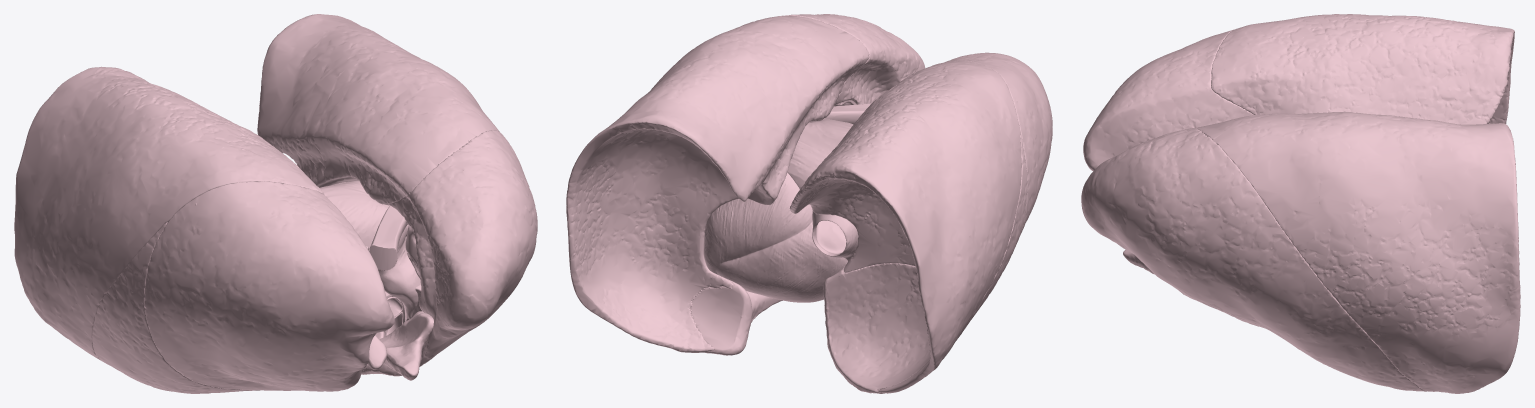
File: thorax-organes.glb
3 renders of one model, left to right at view 1: azimuth 30°, elevation 25°; view 2: azimuth 150°, elevation 25°; view 3: azimuth 270°, elevation 25°, orthographic. The views are drawn at different scales.
Visible parts, largest first — view 1: lobe_superieur_du_poumon_droit, lobe_inferieur_du_poumon_droit, lobe_inferieur_du_poumon_gauche, lobe_superieur_du_poumon_gauche, lobe_moyen_du_poumon_droit, paroi_du_c_ur, lobe_du_thymus_gauche, bronche, lobe_du_thymus_droit; view 2: lobe_inferieur_du_poumon_gauche, lobe_inferieur_du_poumon_droit, paroi_du_c_ur, lobe_moyen_du_poumon_droit, lobe_superieur_du_poumon_gauche, lobe_superieur_du_poumon_droit, bronche; view 3: lobe_inferieur_du_poumon_gauche, lobe_superieur_du_poumon_gauche, lobe_inferieur_du_poumon_droit, lobe_superieur_du_poumon_droit.
Boxes of the visible parts, left/top/right/bottom form: lobe_superieur_du_poumon_droit: left=144, top=181, right=394, bottom=391; lobe_inferieur_du_poumon_droit: left=14, top=66, right=323, bottom=361; lobe_inferieur_du_poumon_gauche: left=257, top=14, right=499, bottom=204; lobe_superieur_du_poumon_gauche: left=361, top=130, right=537, bottom=376; lobe_moyen_du_poumon_droit: left=92, top=222, right=259, bottom=393; paroi_du_c_ur: left=319, top=180, right=420, bottom=322; lobe_du_thymus_gauche: left=379, top=284, right=433, bottom=380; bronche: left=195, top=182, right=407, bottom=270; lobe_du_thymus_droit: left=366, top=331, right=386, bottom=369; lobe_inferieur_du_poumon_gauche: left=566, top=16, right=869, bottom=352; lobe_inferieur_du_poumon_droit: left=789, top=60, right=1021, bottom=393; paroi_du_c_ur: left=704, top=119, right=858, bottom=302; lobe_moyen_du_poumon_droit: left=823, top=135, right=1027, bottom=393; lobe_superieur_du_poumon_gauche: left=690, top=14, right=925, bottom=355; lobe_superieur_du_poumon_droit: left=944, top=52, right=1052, bottom=234; bronche: left=823, top=100, right=1017, bottom=124; lobe_inferieur_du_poumon_gauche: left=1195, top=111, right=1520, bottom=393; lobe_superieur_du_poumon_gauche: left=1081, top=128, right=1426, bottom=391; lobe_inferieur_du_poumon_droit: left=1211, top=14, right=1514, bottom=124; lobe_superieur_du_poumon_droit: left=1083, top=29, right=1253, bottom=170.
Bounding box in the file's own units: 253 × 181 × 259.
